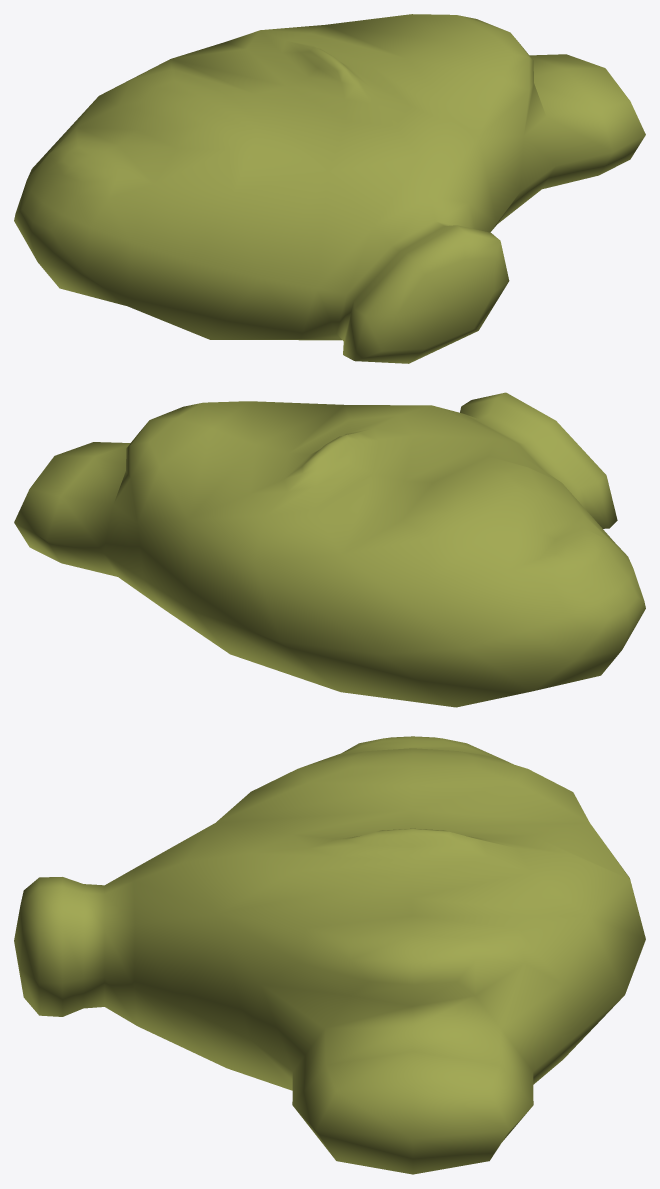
File: Dirt_3.fbx
3 views of the same model, one above another, from view 1: azimuth 30°, elevation 25°; view 2: azimuth 150°, elevation 25°; view 3: azimuth 270°, elevation 25° (orthographic). The views are drawn at different scales.
Parts seen in each view (by area): view 1: Dirt_3; view 2: Dirt_3; view 3: Dirt_3.
Boxes of the visible parts, box(x1,y1,x2,y2) form: Dirt_3: box(14, 14, 645, 363); Dirt_3: box(14, 392, 645, 707); Dirt_3: box(14, 736, 645, 1174).
Size of the model in its own units: 36.32 by 12.04 by 28.14.
